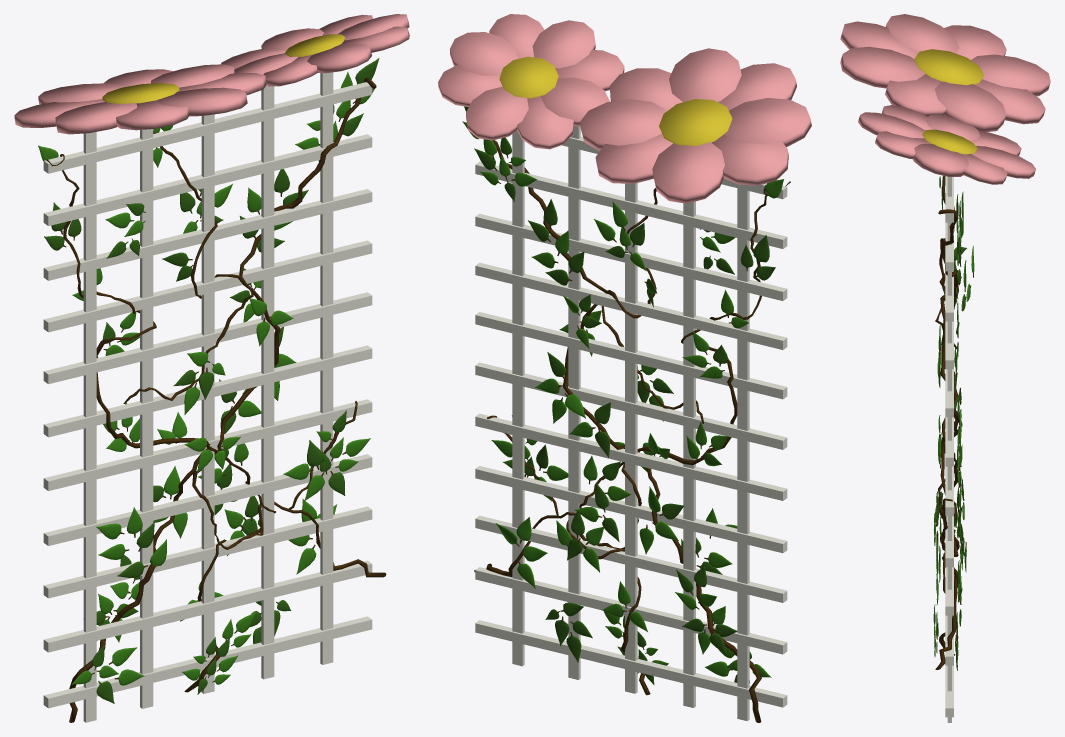
The model's file is vinesTrellis.fbx.
The picture shows the model from 3 angles, left to right: view 1: azimuth 30°, elevation 25°; view 2: azimuth 150°, elevation 25°; view 3: azimuth 270°, elevation 25°; orthographic projection. The views are drawn at different scales.
Parts seen in each view (by area): view 1: 1_trellis, 1_flowerPlatform-01, 1_flowerPlatform-01.001, 1_vinestem-01.004, 1_leaf-02.024, 1_vinestem-01.005, 1_leaf-02.027, 1_leaf-02.018, 1_leaf-02.008, 1_leaf-02.014, 1_leaf-02.022, 1_vinestem-01 (+11 smaller); view 2: 1_trellis, 1_flowerPlatform-01, 1_flowerPlatform-01.001, 1_leaf-02.008, 1_vinestem-01.004, 1_leaf-02.017, 1_vinestem-01.005, 1_leaf-02.013, 1_leaf-02.022, 1_leaf-02.005, 1_leaf-02.003, 1_leaf-02.024 (+16 smaller); view 3: 1_flowerPlatform-01, 1_flowerPlatform-01.001, 1_trellis, 1_vinestem-01.005, 1_vinestem-01.004, 1_vinestem-01.003, 1_leaf-02.013, 1_leaf-02.008.
Boxes of the visible parts, x1,y1,x2,y2 form: 1_trellis: (43, 72, 372, 722); 1_flowerPlatform-01: (14, 64, 266, 134); 1_flowerPlatform-01.001: (221, 14, 409, 86); 1_vinestem-01.004: (46, 154, 386, 577); 1_leaf-02.024: (283, 410, 370, 500); 1_vinestem-01.005: (153, 131, 280, 692); 1_leaf-02.027: (96, 507, 166, 577); 1_leaf-02.018: (182, 612, 256, 694); 1_leaf-02.008: (198, 443, 260, 555); 1_leaf-02.014: (71, 645, 144, 703); 1_leaf-02.022: (295, 58, 379, 161); 1_vinestem-01: (69, 448, 208, 722); 1_trellis: (475, 125, 787, 721); 1_flowerPlatform-01: (579, 48, 811, 203); 1_flowerPlatform-01.001: (438, 14, 624, 149); 1_leaf-02.008: (556, 455, 631, 572); 1_vinestem-01.004: (474, 181, 790, 577); 1_leaf-02.017: (675, 566, 737, 654); 1_vinestem-01.005: (562, 188, 657, 695); 1_leaf-02.013: (528, 199, 584, 285); 1_leaf-02.022: (462, 106, 537, 202); 1_leaf-02.005: (594, 201, 646, 271); 1_leaf-02.003: (535, 352, 585, 423); 1_leaf-02.024: (491, 415, 568, 501); 1_flowerPlatform-01: (840, 14, 1050, 131); 1_flowerPlatform-01.001: (858, 105, 1035, 184); 1_trellis: (945, 176, 953, 722); 1_vinestem-01.005: (939, 175, 959, 655); 1_vinestem-01.004: (935, 184, 958, 669); 1_vinestem-01.003: (938, 209, 958, 301); 1_leaf-02.013: (956, 237, 974, 311); 1_leaf-02.008: (957, 445, 966, 572).
Size of the model in its own units: 434 by 729 by 233.
